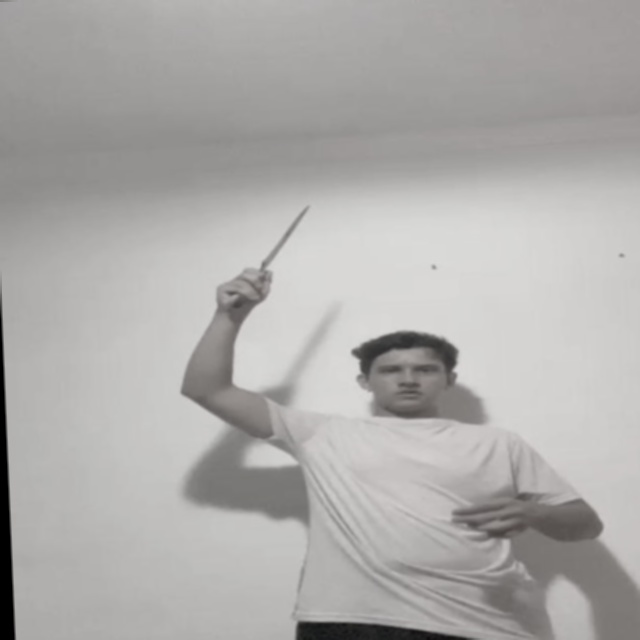Sharp-Object: (261, 205, 313, 264)
